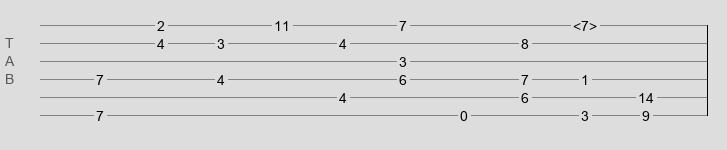0: (460, 108, 468, 118)
1: (581, 72, 589, 82)
11: (274, 18, 290, 28)
14: (638, 90, 654, 100)
2: (157, 18, 165, 28)
3: (217, 36, 225, 46), (399, 54, 407, 64), (581, 108, 589, 118)
4: (157, 36, 165, 46), (217, 72, 225, 82), (339, 36, 347, 46), (339, 90, 347, 100)
6: (399, 72, 407, 82), (521, 90, 529, 100)
7: (96, 108, 104, 118), (96, 72, 104, 82), (399, 18, 407, 28), (521, 72, 529, 82)
8: (521, 36, 529, 46)
9: (642, 108, 650, 118)
harmonic: (573, 18, 597, 28)
